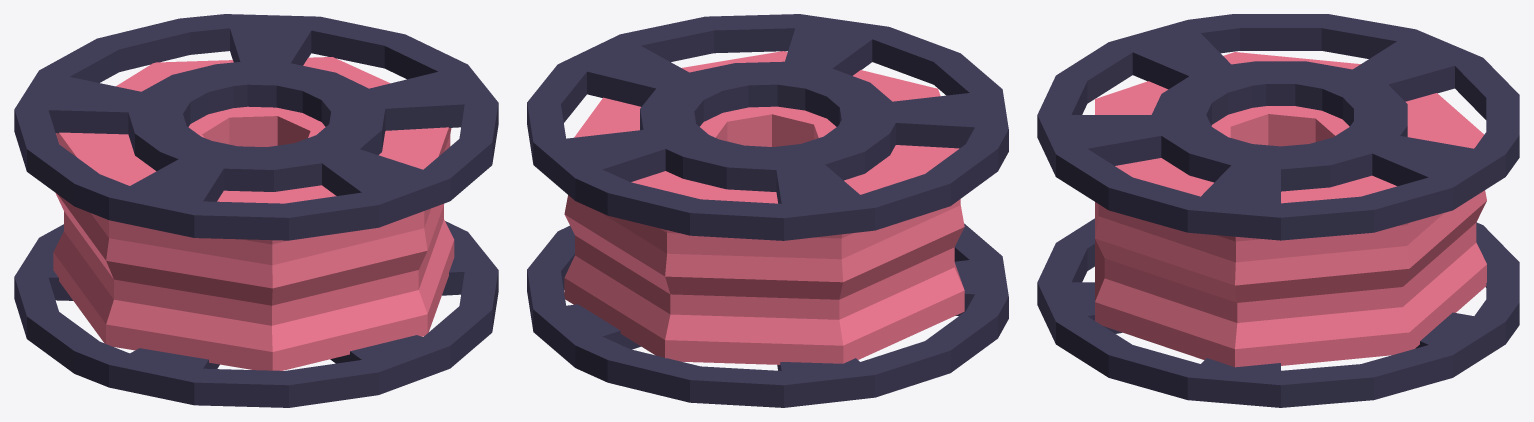
The model's file is SM_coil_01.fbx.
3 renders of one model, left to right at view 1: azimuth 30°, elevation 25°; view 2: azimuth 150°, elevation 25°; view 3: azimuth 270°, elevation 25°, orthographic.
Visible parts, largest first — view 1: sm_coil_paint_01, sm_coil__01; view 2: sm_coil_paint_01, sm_coil__01; view 3: sm_coil_paint_01, sm_coil__01.
Part boxes in pixels (box(x1,y1,x2,y2)): sm_coil_paint_01: box(14, 14, 498, 407); sm_coil__01: box(53, 57, 454, 370); sm_coil_paint_01: box(527, 14, 1008, 407); sm_coil__01: box(564, 51, 964, 364); sm_coil_paint_01: box(1037, 14, 1519, 407); sm_coil__01: box(1095, 52, 1486, 367).
Size of the model in its own units: 42.56 by 18.52 by 42.56.
